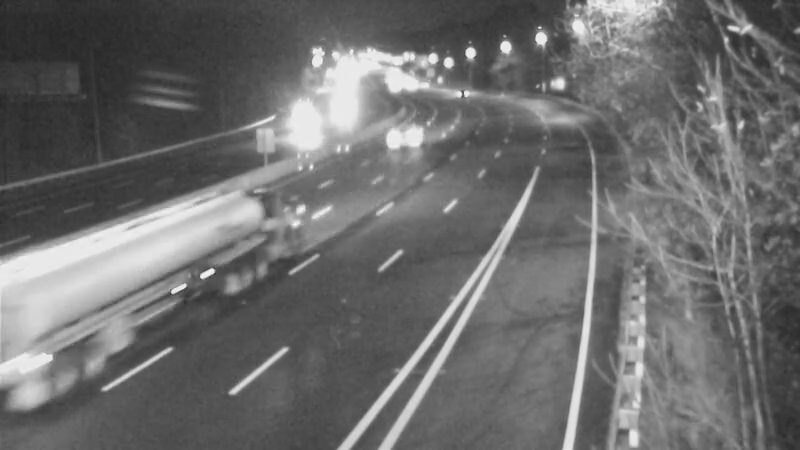vehicle: (1, 298, 95, 408), (442, 67, 492, 117), (391, 102, 441, 152), (286, 109, 336, 159)
